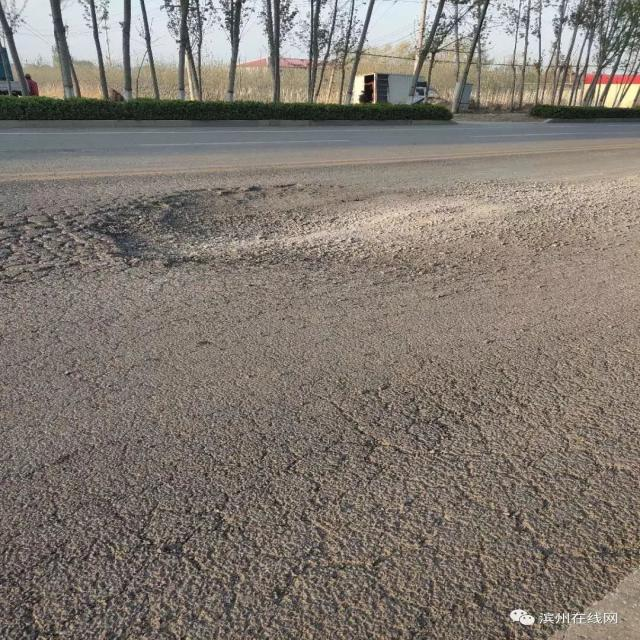Pothole: (87, 190, 527, 272)
